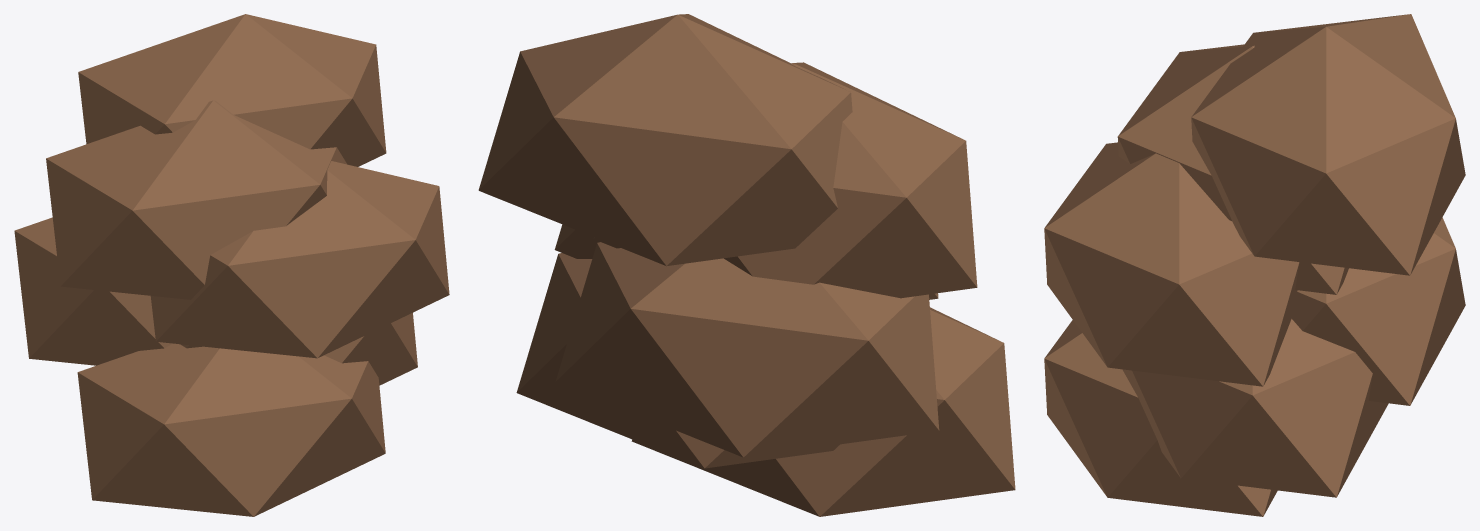
The model's file is w3d_item_clay_l.glb.
3 views of the same model, side by side, from view 1: azimuth 30°, elevation 25°; view 2: azimuth 150°, elevation 25°; view 3: azimuth 270°, elevation 25° (orthographic). The views are drawn at different scales.
Visible parts, largest first — view 1: item_007_clay_l; view 2: item_007_clay_l; view 3: item_007_clay_l.
Part boxes in pixels (box(x1,y1,x2,y2)): item_007_clay_l: box(14, 14, 449, 516); item_007_clay_l: box(478, 14, 1015, 516); item_007_clay_l: box(1044, 14, 1465, 516).
Bounding box in the file's own units: 0.3811 × 0.4472 × 0.3441.
